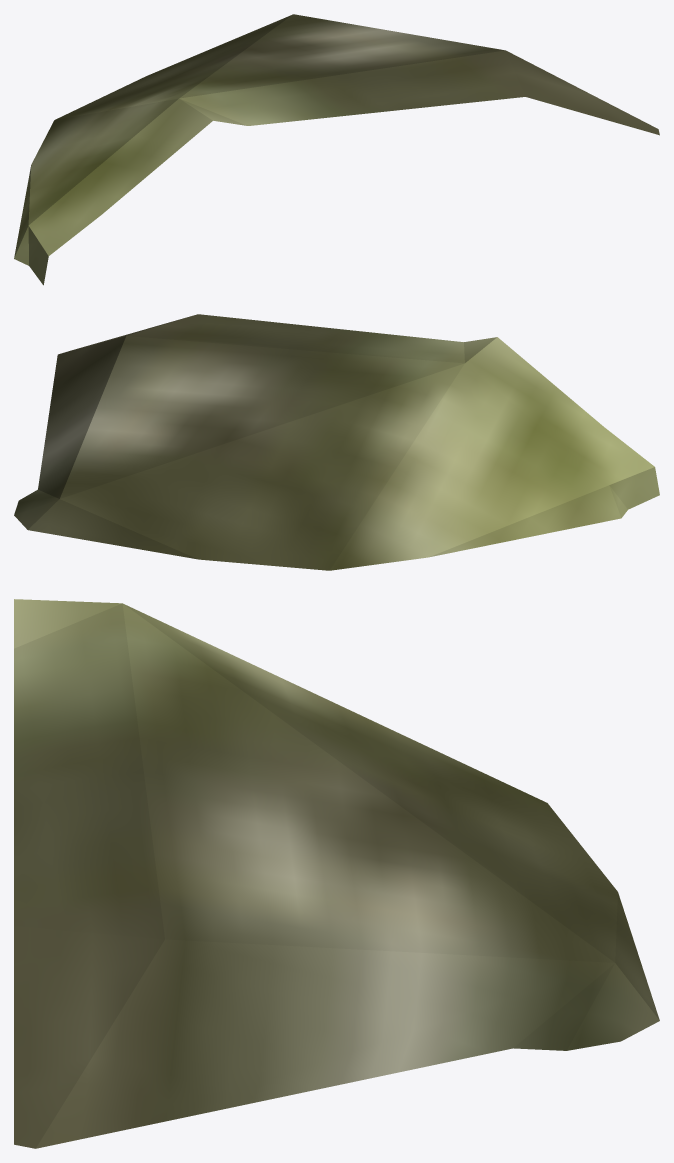
3 renders of one model, top to bottom at view 1: azimuth 30°, elevation 25°; view 2: azimuth 150°, elevation 25°; view 3: azimuth 270°, elevation 25°, orthographic. The views are drawn at different scales.
Bounding box in the file's own units: 0.4189 × 0.0796 × 0.2361.
Materials: 1 (1 with a texture image).
